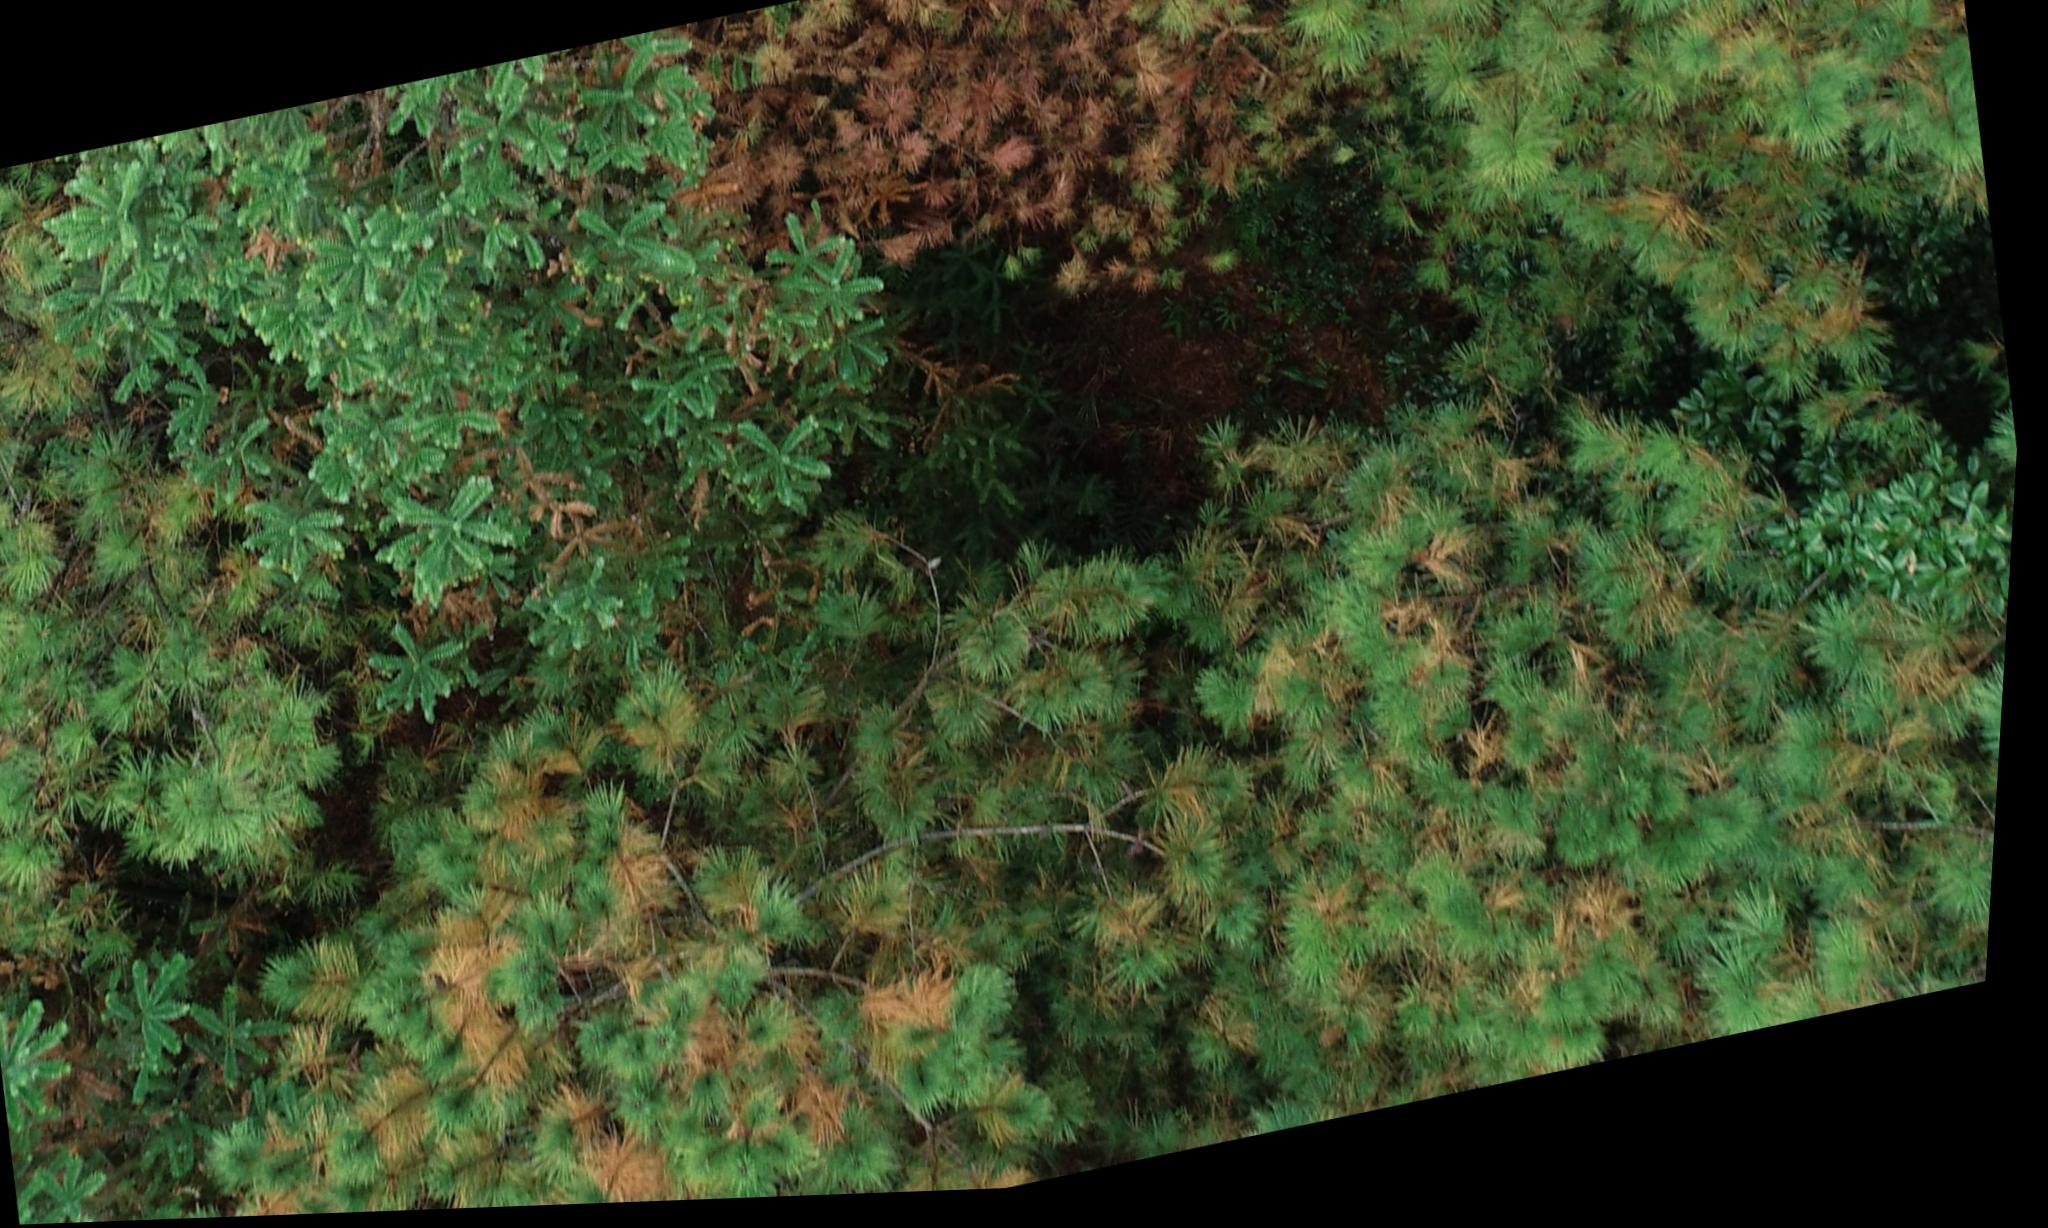heavy: (564, 0, 1343, 393)
light: (1134, 303, 2030, 1152), (184, 526, 1251, 1221), (1310, 0, 2009, 401), (148, 379, 618, 697), (0, 895, 216, 1227)
